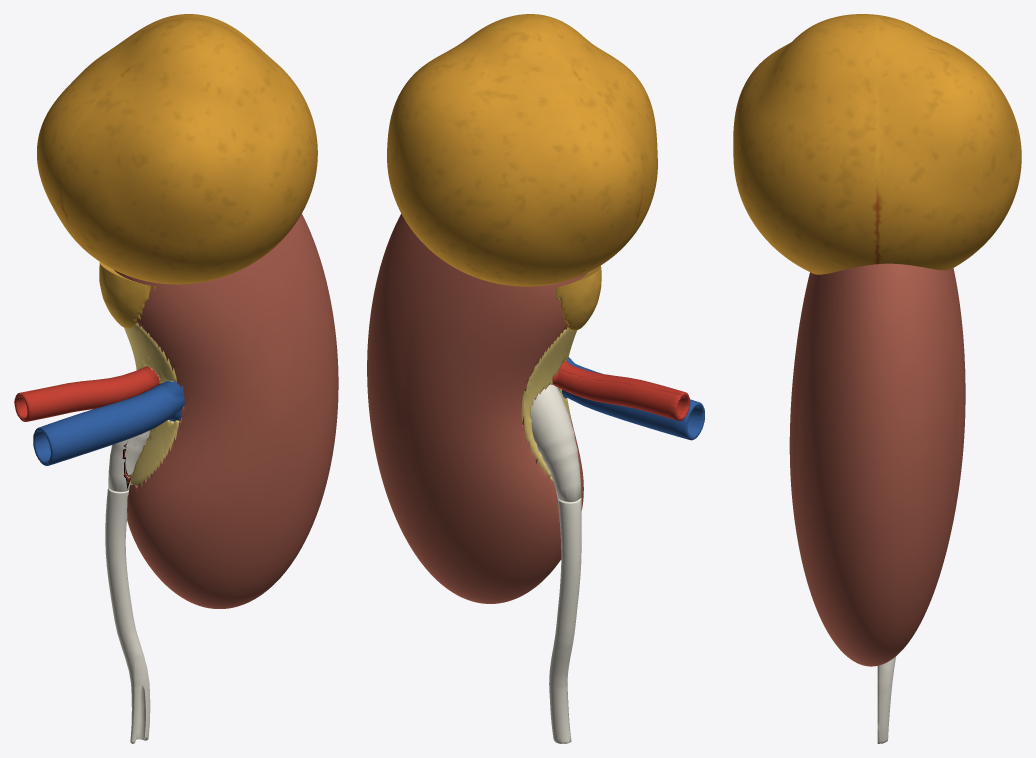
Rendered from kidney_t3a_coronal.glb.
The picture shows the model from 3 angles, left to right: view 1: azimuth 30°, elevation 25°; view 2: azimuth 150°, elevation 25°; view 3: azimuth 270°, elevation 25°; orthographic projection. The views are drawn at different scales.
Parts seen in each view (by area): view 1: anterior_half, tumor, ureter, renal_pelvis; view 2: renal_cortex, tumor, anterior_half, ureter, renal_pelvis, renal_artery, renal_sinus, adrenal_gland; view 3: anterior_half, renal_cortex, tumor, ureter.
Boxes of the visible parts, x1,y1,x2,y2 form: anterior_half: [20, 22, 338, 608]; tumor: [37, 14, 267, 253]; ureter: [105, 487, 150, 743]; renal_pelvis: [108, 439, 132, 491]; renal_cortex: [367, 213, 582, 603]; tumor: [387, 27, 642, 286]; anterior_half: [468, 14, 704, 597]; ureter: [549, 498, 581, 743]; renal_pelvis: [530, 384, 581, 502]; renal_artery: [550, 369, 681, 420]; renal_sinus: [521, 327, 573, 480]; adrenal_gland: [556, 272, 597, 330]; anterior_half: [733, 14, 877, 666]; renal_cortex: [877, 263, 965, 665]; tumor: [877, 15, 1021, 270]; ureter: [877, 656, 895, 743].
Bounding box in the file's own units: 7.85 × 17.07 × 6.
1 material, 1 textured.
